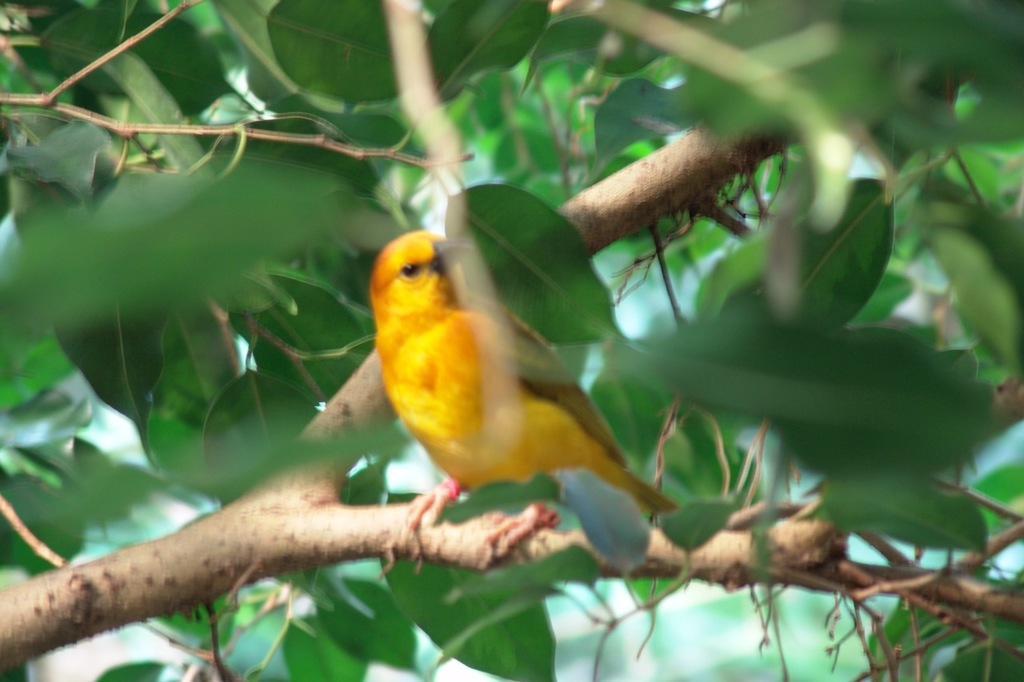person: (2, 0, 260, 131)
